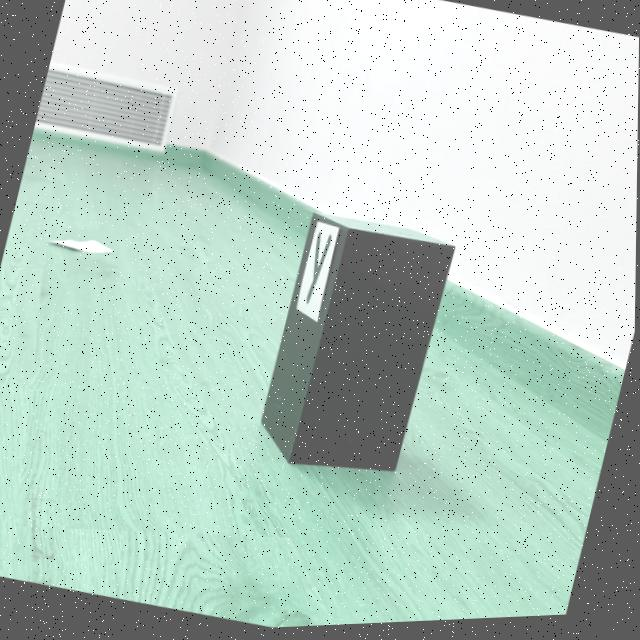Y: (306, 234, 332, 307)
